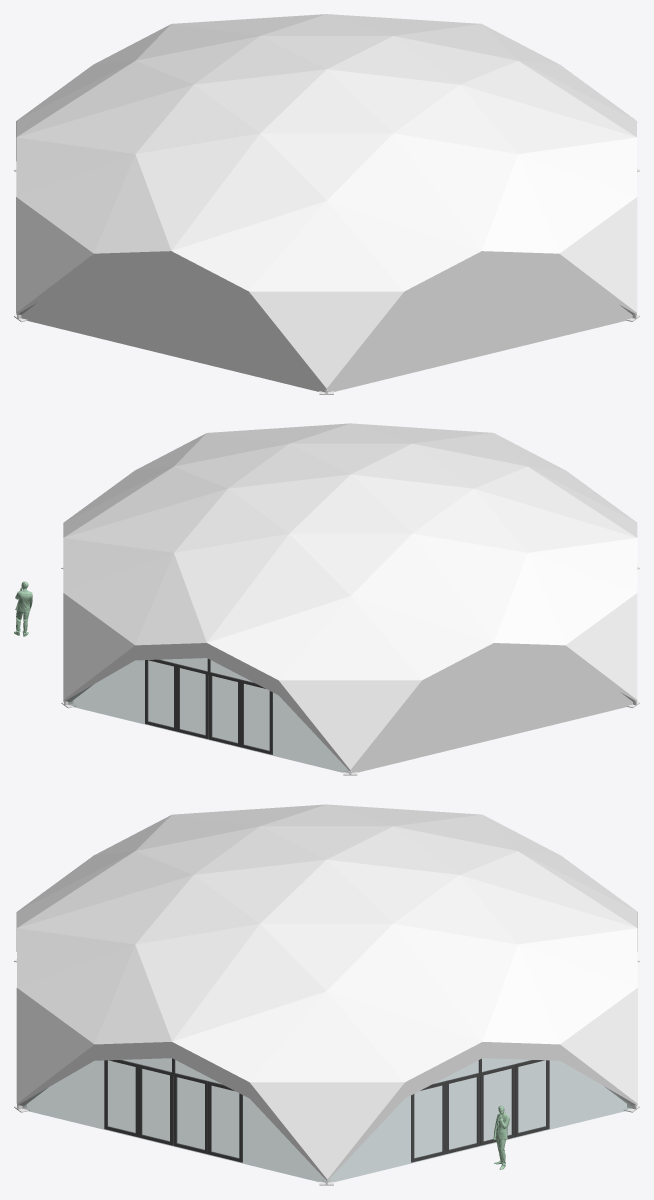
File: hexa285.glb
3 views of the same model, one above another, from view 1: azimuth 30°, elevation 25°; view 2: azimuth 150°, elevation 25°; view 3: azimuth 270°, elevation 25° (orthographic). The views are drawn at different scales.
Visible parts, largest first — view 1: tent, sidewall-1, sidewall-2, logo-area-4, logo-area-3, logo-area-5; view 2: tent, sidewall-3, windows-1, logo-area-6, logo-area-5, logo-area-1, frame-1, human; view 3: tent, windows-3, windows-2, logo-area-2, logo-area-3, logo-area-1, frame-3, frame-2, human.
Part boxes in pixels (x1,y1,x2,y2): tent: (16, 14, 636, 390); sidewall-1: (327, 267, 632, 392); sidewall-2: (21, 267, 325, 392); logo-area-4: (249, 291, 403, 388); logo-area-3: (560, 197, 637, 312); logo-area-5: (16, 197, 93, 312); tent: (63, 423, 637, 771); sidewall-3: (351, 658, 632, 772); windows-1: (68, 658, 349, 772); logo-area-6: (279, 680, 421, 769); logo-area-5: (566, 593, 637, 699); logo-area-1: (63, 593, 134, 699); frame-1: (145, 659, 272, 754); human: (14, 581, 32, 636); tent: (17, 804, 637, 1181); windows-3: (22, 1058, 325, 1182); windows-2: (327, 1058, 631, 1182); logo-area-2: (250, 1082, 404, 1179); logo-area-3: (16, 988, 93, 1103); logo-area-1: (560, 988, 637, 1103); frame-3: (104, 1058, 242, 1162); frame-2: (411, 1058, 549, 1162); human: (493, 1105, 509, 1169).
Size of the model in its own units: 206 by 55.44 by 180.
